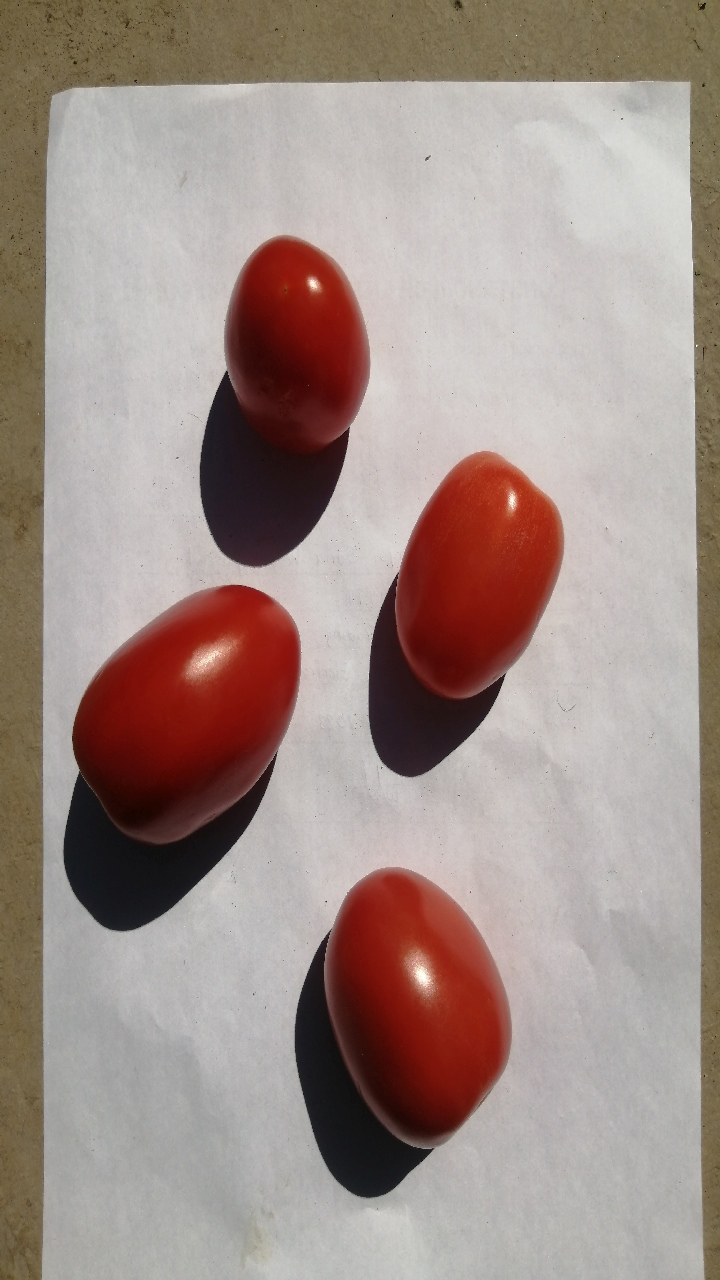tomateRojo: (49, 569, 321, 859), (306, 835, 523, 1163), (349, 426, 595, 712), (195, 208, 384, 472)
